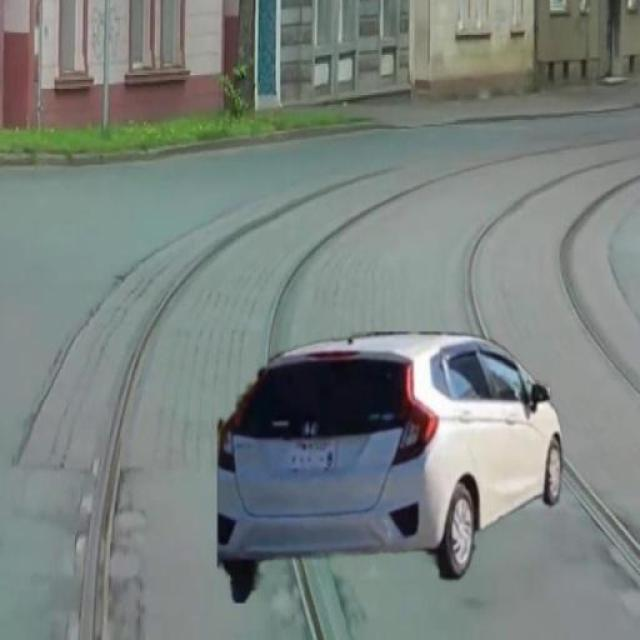vehicle: (213, 329, 578, 600)
